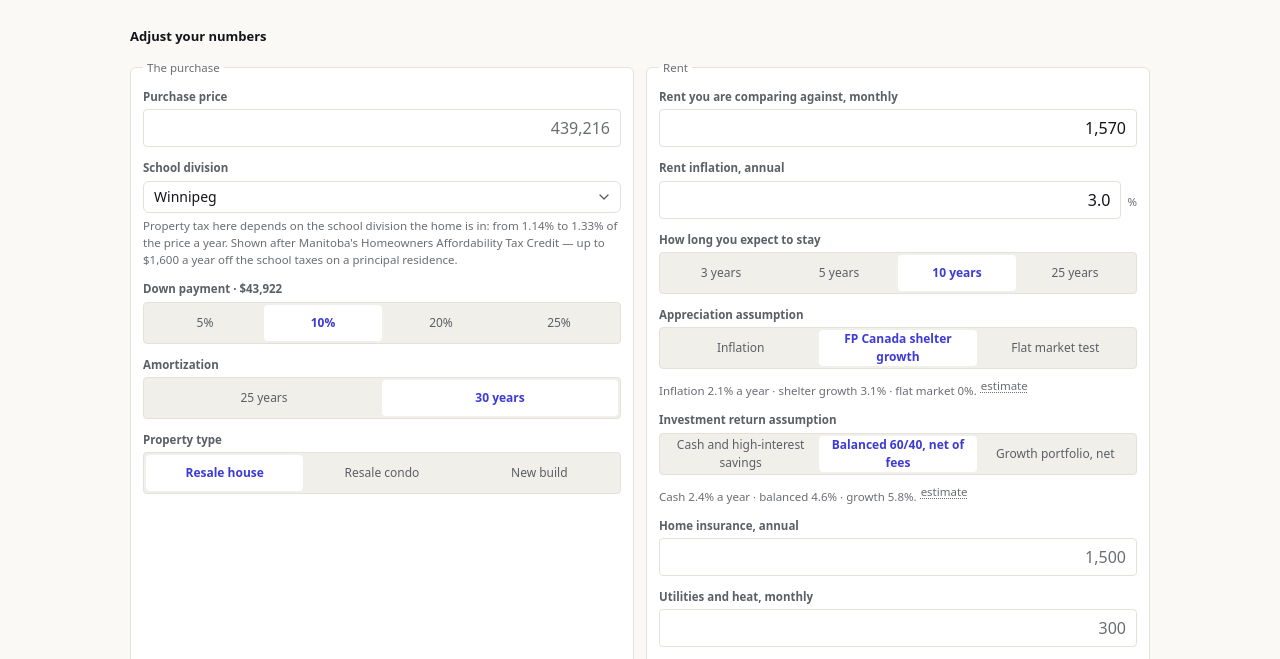
Test: Rent vs buy — the horizon decides › respects the horizon control
(page scrolled)
Click the radio button labelled "3 years" at point(721, 273), box [662,255,780,291]
(page scrolled)
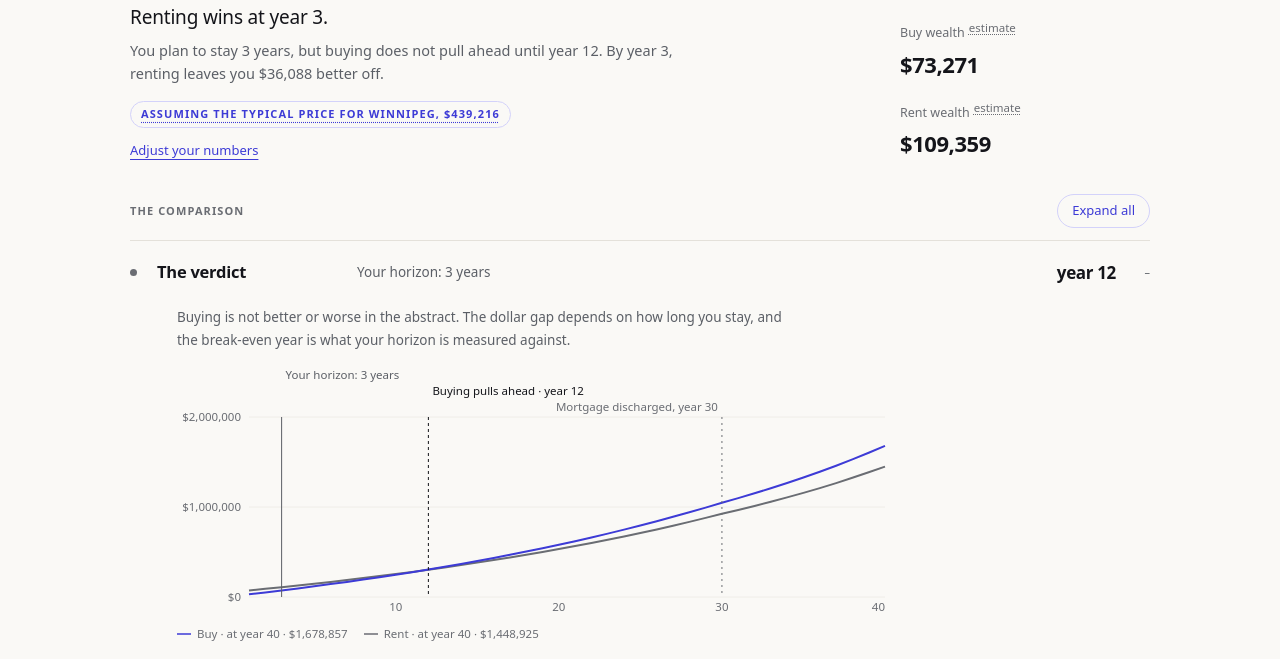
Now the 1st text "Your horizon: 3 years" is shown, box [357,263,490,281]
